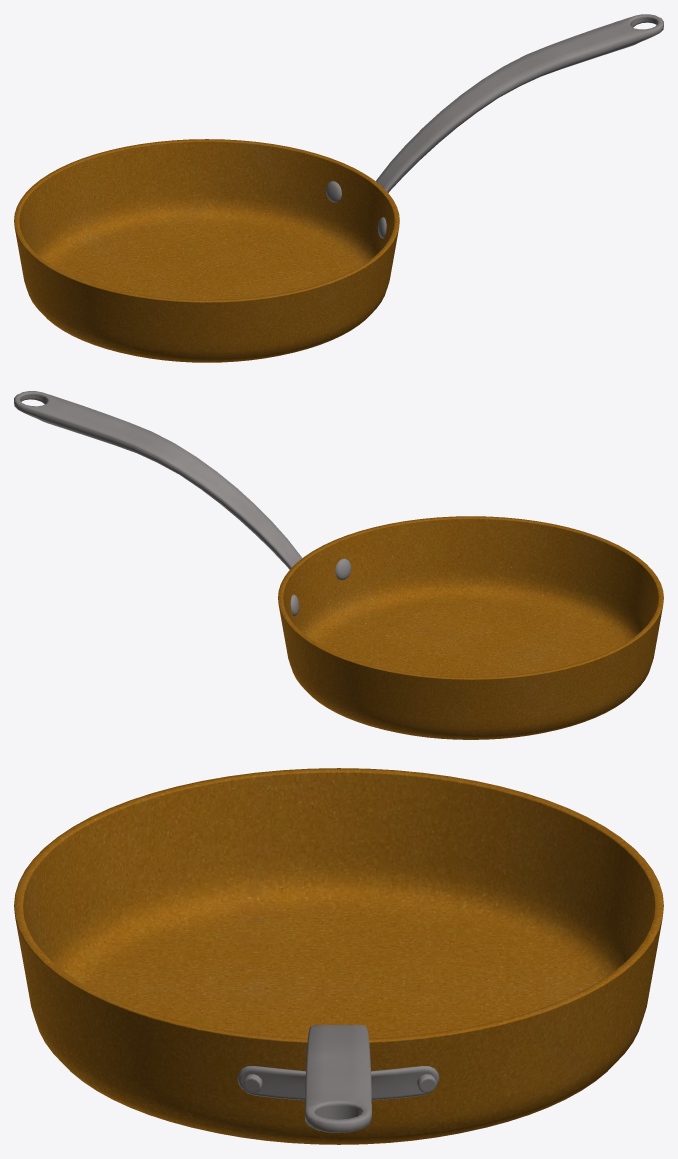
Rendered from padella7.glb.
3 views of the same model, one above another, from view 1: azimuth 30°, elevation 25°; view 2: azimuth 150°, elevation 25°; view 3: azimuth 270°, elevation 25° (orthographic). The views are drawn at different scales.
Parts seen in each view (by area): view 1: contemporary_cookware_frying_pan_YBK2_FQ; view 2: contemporary_cookware_frying_pan_YBK2_FQ; view 3: contemporary_cookware_frying_pan_YBK2_FQ.
Part boxes in pixels (x1,y1,x2,y2): contemporary_cookware_frying_pan_YBK2_FQ: (14, 14, 663, 362); contemporary_cookware_frying_pan_YBK2_FQ: (14, 391, 663, 739); contemporary_cookware_frying_pan_YBK2_FQ: (14, 768, 663, 1144).
Bounding box in the file's own units: 59.34 × 15.05 × 31.91.
Materials: 2 (2 with a texture image).
